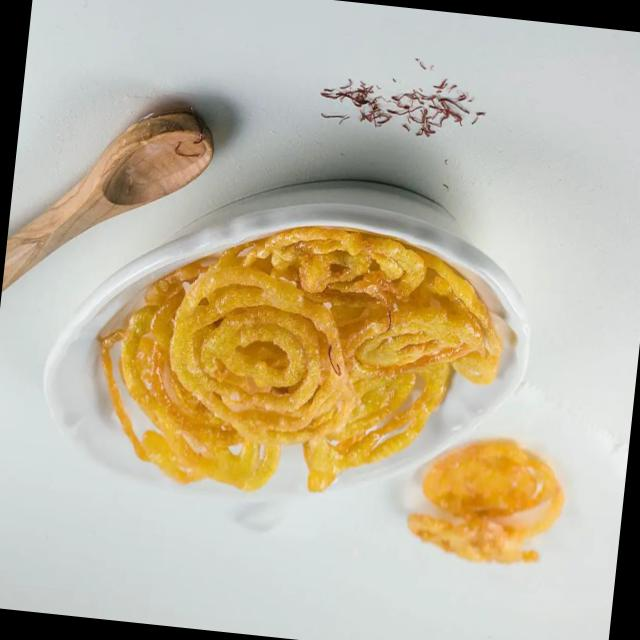jalebi: (100, 226, 516, 511), (422, 432, 565, 569)
